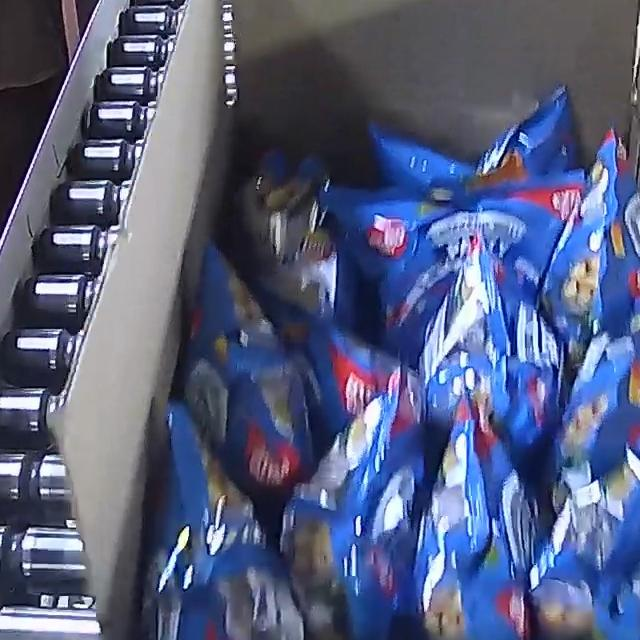paprika: (138, 81, 640, 640)
